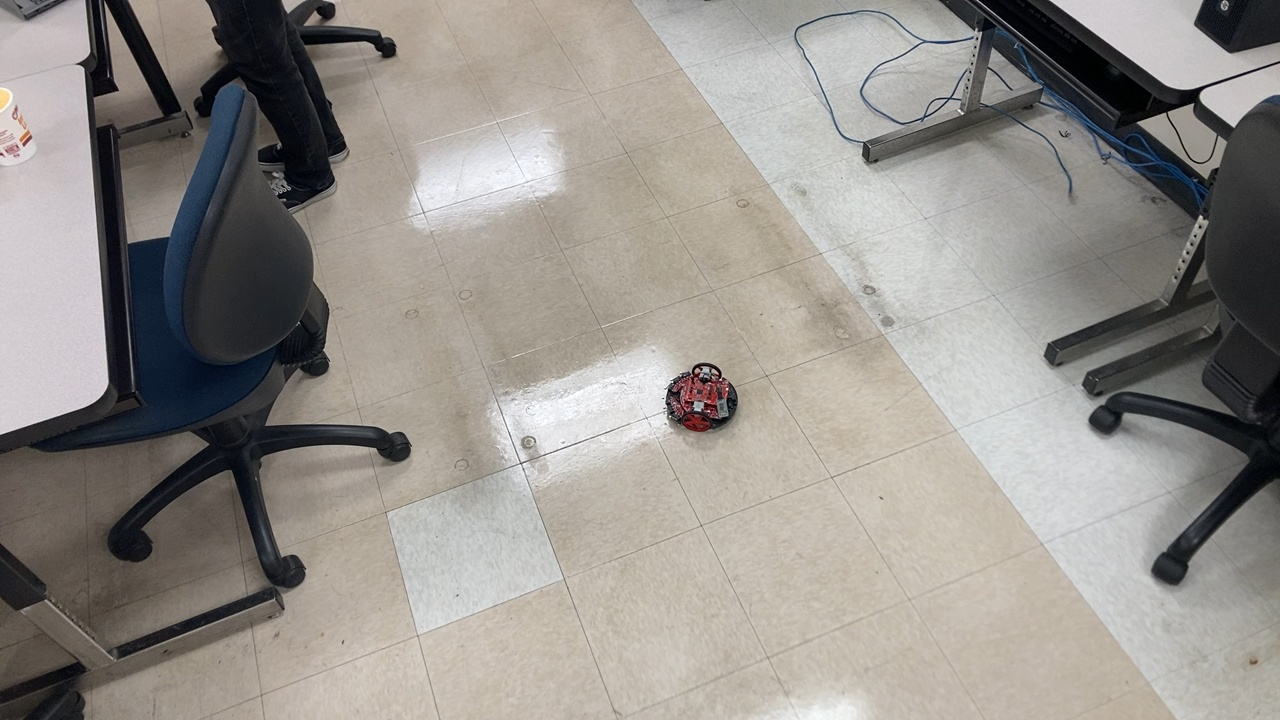robot: (657, 359, 744, 436)
